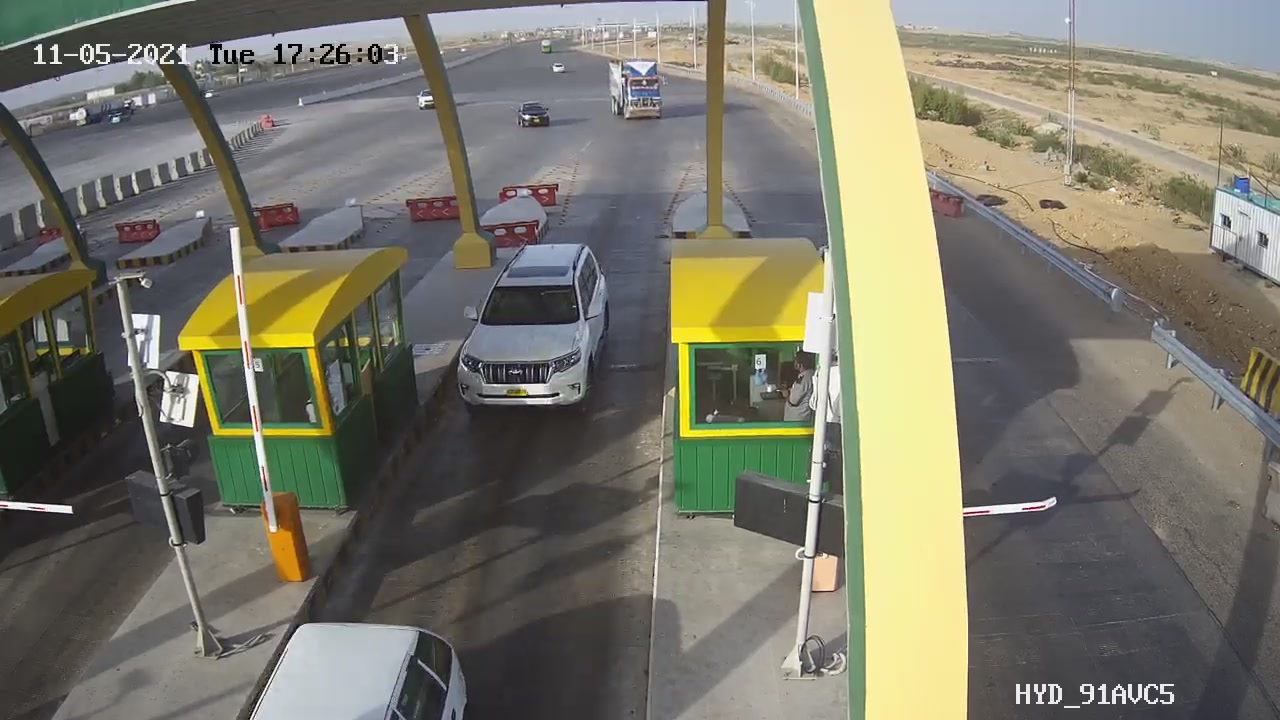F1: (440, 227, 631, 427)
